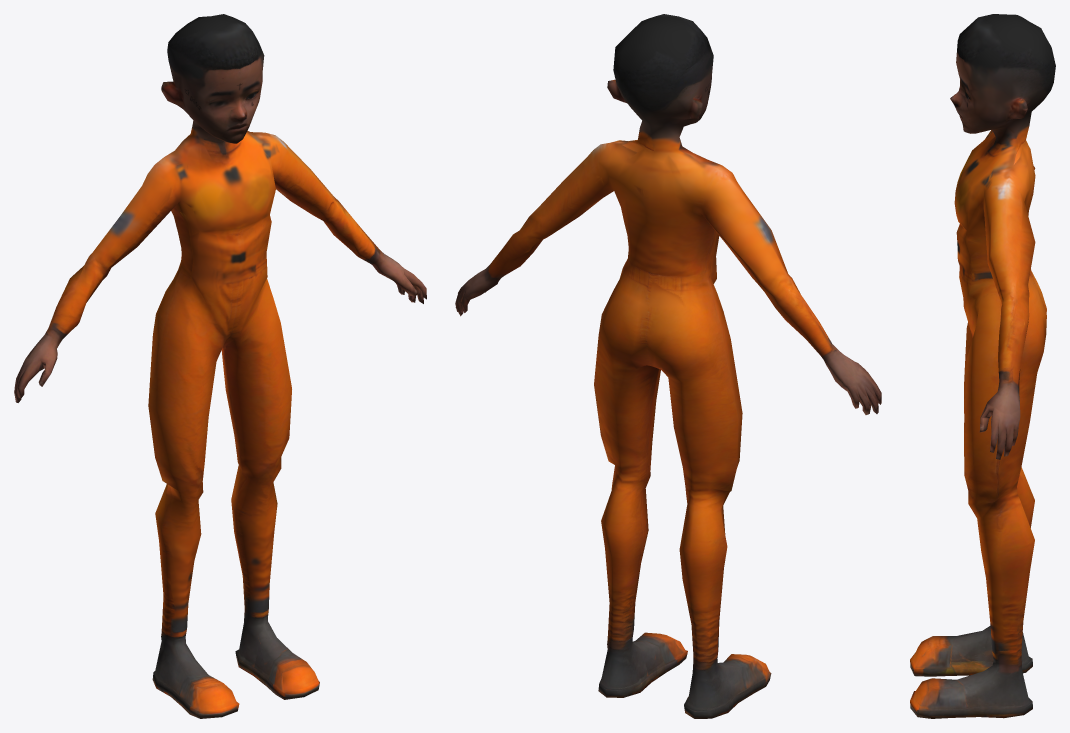
The model's file is prisionero3finaldeverdad.fbx.
The picture shows the model from 3 angles, left to right: view 1: azimuth 30°, elevation 25°; view 2: azimuth 150°, elevation 25°; view 3: azimuth 270°, elevation 25°; orthographic projection. The views are drawn at different scales.
Parts seen in each view (by area): view 1: Base; view 2: Base; view 3: Base.
Boxes of the visible parts, x1=… form: Base: x1=14, y1=14, x2=426, y2=718; Base: x1=455, y1=14, x2=881, y2=718; Base: x1=910, y1=14, x2=1055, y2=718.
Bounding box in the file's own units: 131 × 200 × 39.6.
1 material, 1 textured.
